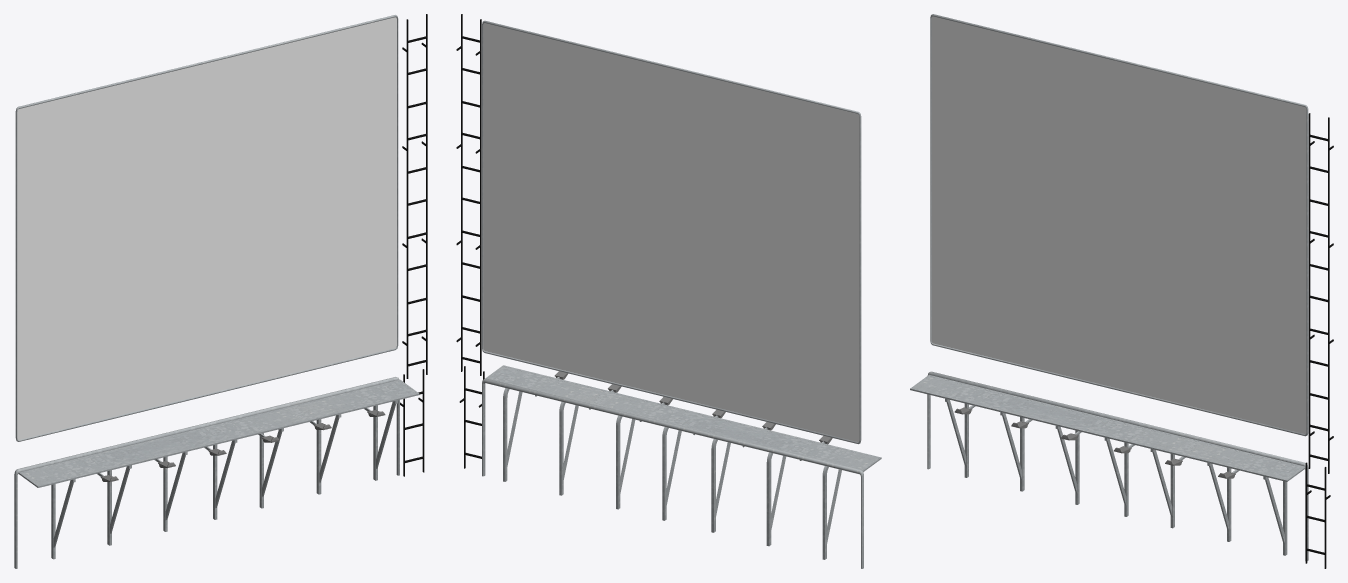
Rendered from Classic_City_Skraper_Billboard.fbx.
3 views of the same model, side by side, from view 1: azimuth 30°, elevation 25°; view 2: azimuth 150°, elevation 25°; view 3: azimuth 330°, elevation 25° (orthographic).
Parts seen in each view (by area): view 1: Classic_City_Skraper_Billboard_Ad001, Classic_City_Skraper_Billboard_Frame, Object001Classic_City_Skraper_Billboard_Ladder, Classic_City_Skraper_Billboard_Light; view 2: Classic_City_Skraper_Billboard_AdBacker, Classic_City_Skraper_Billboard_Frame, Object001Classic_City_Skraper_Billboard_Ladder; view 3: Classic_City_Skraper_Billboard_Ad001, Classic_City_Skraper_Billboard_Frame, Object001Classic_City_Skraper_Billboard_Ladder, Classic_City_Skraper_Billboard_Light.
Boxes of the visible parts, bbox=[...] form: Classic_City_Skraper_Billboard_Ad001: bbox=[17, 17, 396, 439]; Classic_City_Skraper_Billboard_Frame: bbox=[14, 15, 419, 568]; Object001Classic_City_Skraper_Billboard_Ladder: bbox=[400, 14, 427, 476]; Classic_City_Skraper_Billboard_Light: bbox=[100, 410, 385, 481]; Classic_City_Skraper_Billboard_AdBacker: bbox=[483, 23, 859, 441]; Classic_City_Skraper_Billboard_Frame: bbox=[482, 20, 881, 568]; Object001Classic_City_Skraper_Billboard_Ladder: bbox=[456, 14, 484, 468]; Classic_City_Skraper_Billboard_Ad001: bbox=[931, 16, 1306, 434]; Classic_City_Skraper_Billboard_Frame: bbox=[910, 14, 1308, 560]; Object001Classic_City_Skraper_Billboard_Ladder: bbox=[1305, 113, 1333, 568]; Classic_City_Skraper_Billboard_Light: bbox=[954, 407, 1235, 478].
Bounding box in the file's own units: 32.34 × 34.73 × 4.87.
Materials: 6 (2 with a texture image).
